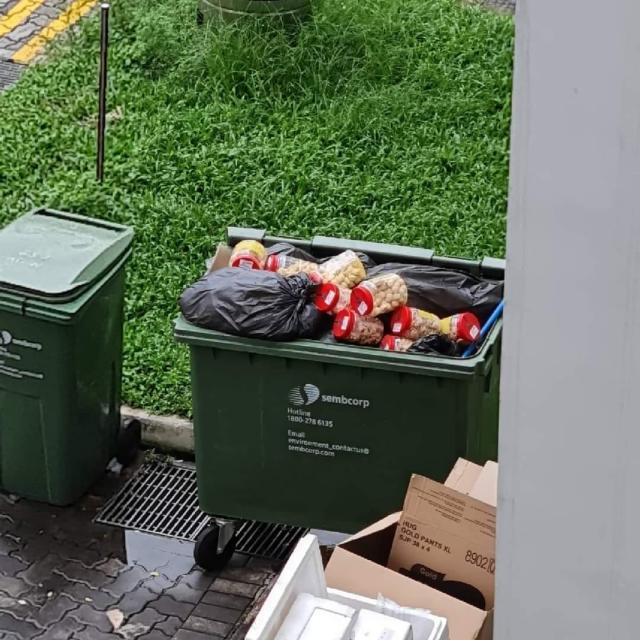bin_empty: (0, 208, 138, 504)
bin_full: (177, 245, 500, 517)
bulk_waste: (326, 514, 491, 639), (388, 475, 495, 608), (245, 534, 359, 639), (264, 594, 356, 640), (443, 456, 498, 509), (344, 606, 416, 640)
normal_waste: (179, 267, 322, 340), (371, 263, 501, 324), (369, 262, 502, 321), (404, 332, 460, 358), (205, 242, 236, 275), (262, 241, 304, 263), (340, 250, 376, 272)
